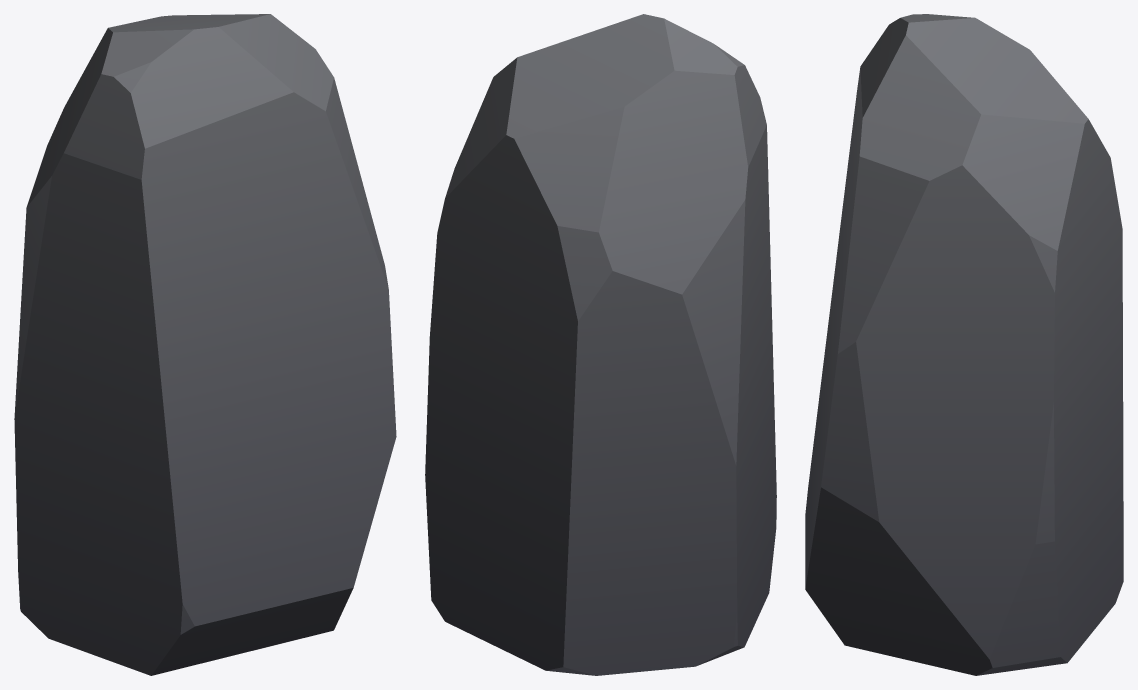
File: Rock_03.fbx
3 views of the same model, side by side, from view 1: azimuth 30°, elevation 25°; view 2: azimuth 150°, elevation 25°; view 3: azimuth 270°, elevation 25° (orthographic). The views are drawn at different scales.
Parts seen in each view (by area): view 1: Rock_03_LOD0; view 2: Rock_03_LOD0; view 3: Rock_03_LOD0.
Part boxes in pixels (<box>): Rock_03_LOD0: <box>14,14,396,675</box>; Rock_03_LOD0: <box>425,14,776,675</box>; Rock_03_LOD0: <box>805,14,1123,675</box>.
Size of what is drawn, in the model's own units: 0.8642 by 1.58 by 0.795.
